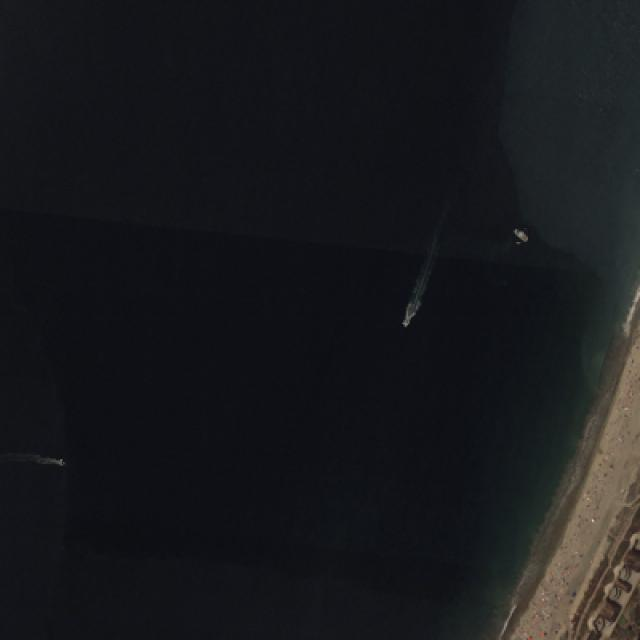boat: (514, 228, 528, 243), (402, 321, 408, 326), (59, 460, 64, 464)
